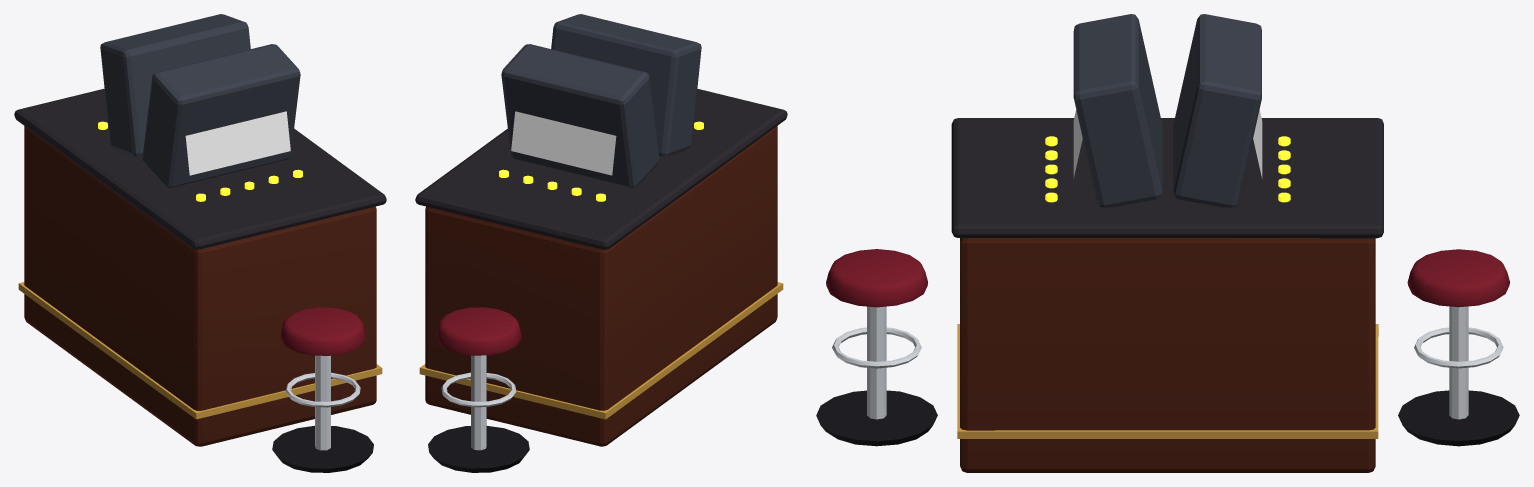
Rendered from video-poker-bank.glb.
3 views of the same model, side by side, from view 1: azimuth 30°, elevation 25°; view 2: azimuth 150°, elevation 25°; view 3: azimuth 270°, elevation 25° (orthographic). The views are drawn at different scales.
Visible parts, largest first — view 1: video-poker-bank_lod0; view 2: video-poker-bank_lod0; view 3: video-poker-bank_lod0.
Part boxes in pixels (x1,y1,x2,y2): video-poker-bank_lod0: (14, 14, 386, 472); video-poker-bank_lod0: (415, 14, 787, 472); video-poker-bank_lod0: (816, 14, 1519, 472).
Size of what is drawn, in the model's own units: 0.9609 by 1.49 by 2.54.
